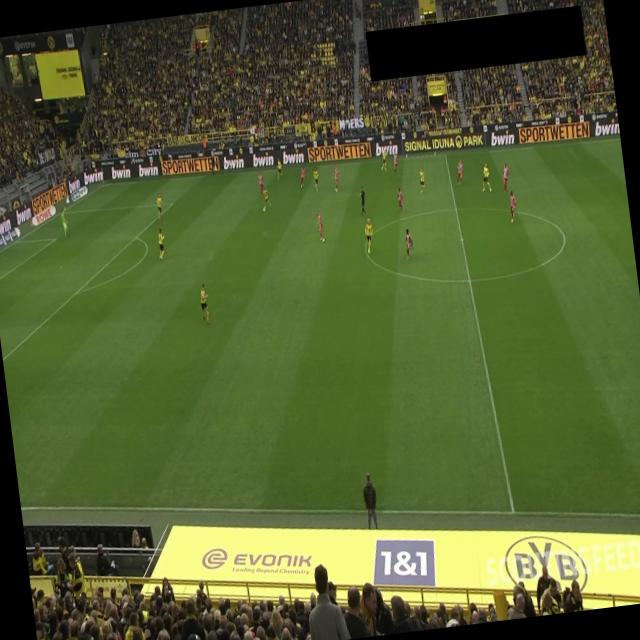ball: (262, 205, 266, 213)
goalkeeper: (60, 209, 70, 238)
player: (198, 282, 212, 325), (362, 216, 376, 253), (478, 161, 492, 193), (401, 228, 414, 260), (156, 227, 168, 260), (507, 188, 518, 222), (500, 161, 511, 193), (315, 208, 325, 242), (260, 186, 272, 211), (154, 190, 164, 220), (454, 159, 465, 185), (416, 166, 426, 193), (310, 165, 320, 192), (332, 166, 342, 192), (390, 150, 400, 176), (274, 156, 284, 180), (298, 163, 308, 187), (256, 170, 265, 196), (396, 186, 405, 212), (378, 150, 388, 170)
referee: (356, 184, 368, 214), (209, 151, 218, 175)
